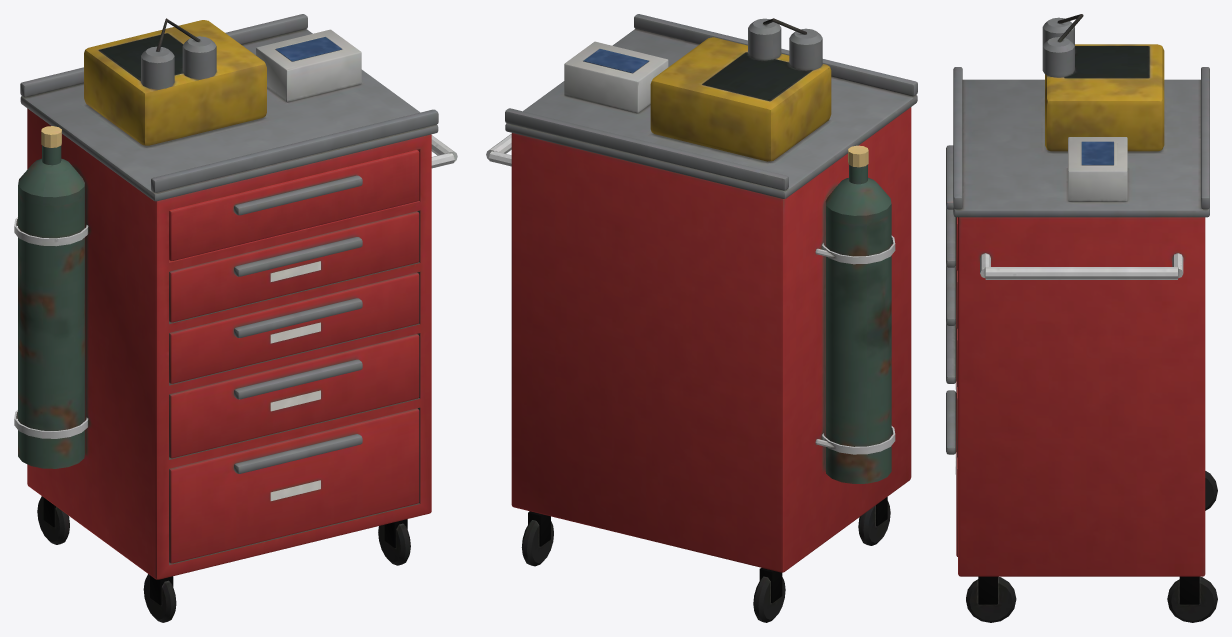
File: carrinho_emergencia.glb
3 renders of one model, left to right at view 1: azimuth 30°, elevation 25°; view 2: azimuth 150°, elevation 25°; view 3: azimuth 270°, elevation 25°, orthographic. The views are drawn at different scales.
Parts seen in each view (by area): view 1: carrinho, gaveta_1; view 2: carrinho; view 3: carrinho, gaveta_1.
Boxes of the visible parts, x1=… form: carrinho: x1=14, y1=14, x2=457, y2=622; gaveta_1: x1=169, y1=150, x2=419, y2=260; carrinho: x1=486, y1=14, x2=917, y2=622; carrinho: x1=946, y1=14, x2=1217, y2=622; gaveta_1: x1=946, y1=145, x2=957, y2=270.
Bounding box in the file's own units: 0.892 × 1.26 × 0.593.
Materials: 2 (2 with a texture image).
